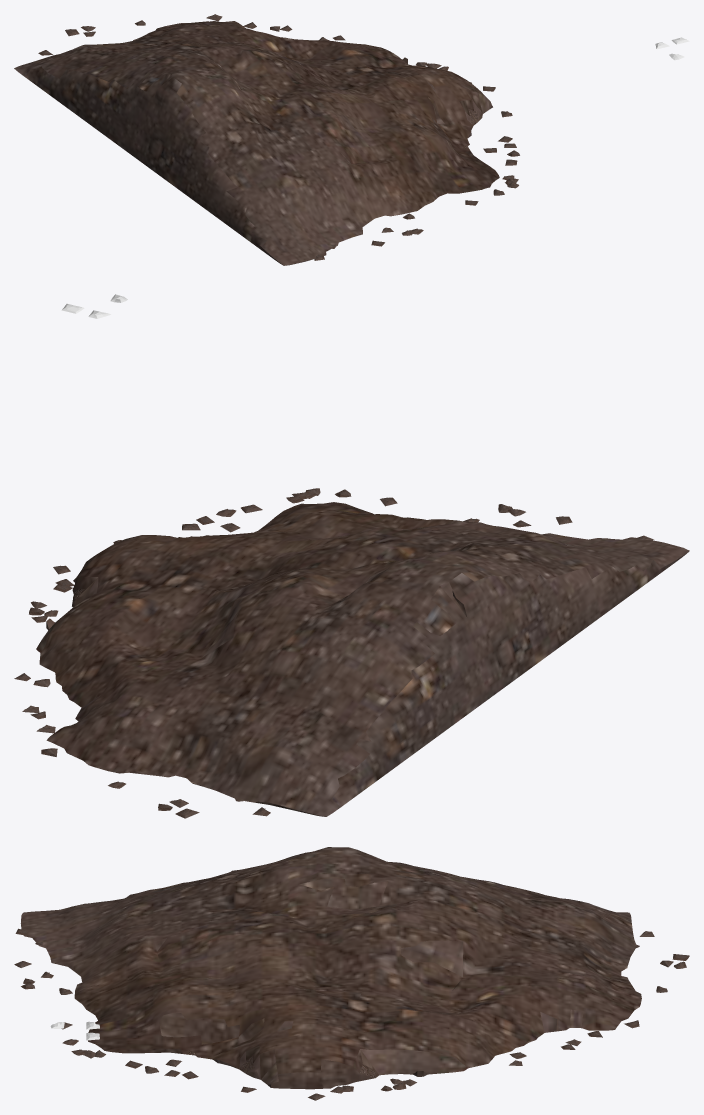
Rendered from pileofdirt2.glb.
3 renders of one model, top to bottom at view 1: azimuth 30°, elevation 25°; view 2: azimuth 150°, elevation 25°; view 3: azimuth 270°, elevation 25°, orthographic. The views are drawn at different scales.
Parts seen in each view (by area): view 1: Pile; view 2: Pile; view 3: Pile.
Part boxes in pixels (bbox=[...]): Pile: bbox=[14, 14, 519, 265]; Pile: bbox=[14, 488, 689, 818]; Pile: bbox=[14, 847, 689, 1100].
Size of the model in its own units: 4.11 by 0.9219 by 4.92.
1 material, 1 textured.
